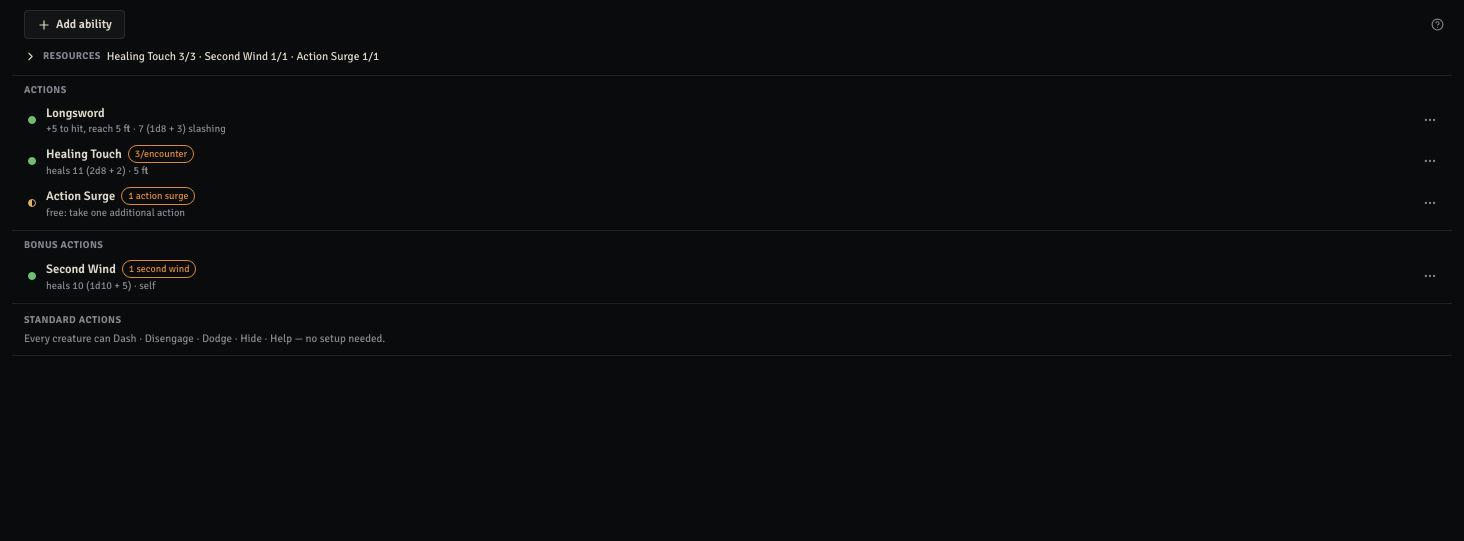
Test: the resource list › sizes uses so the ability's editor shows the same number, and the other way round
Click the button "Resources" at (72, 56), box 24,47 -> 1440,65
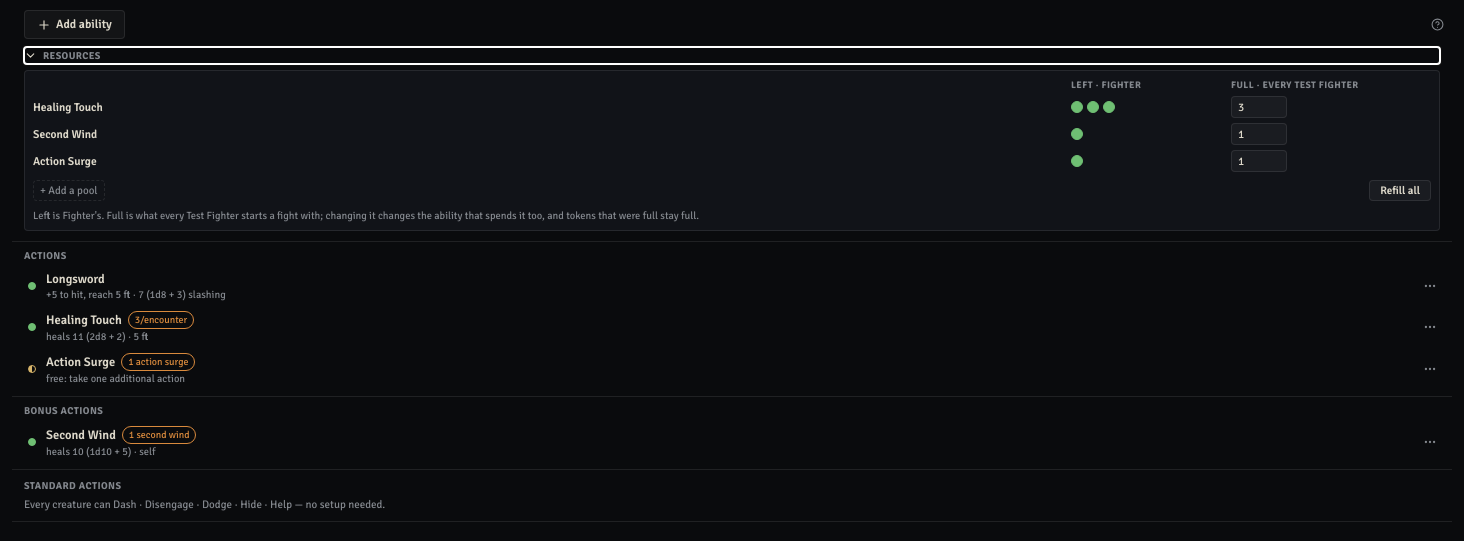
Replace the text in the field named "Healing Touch full" with "2" at (1259, 107), box 1231,96 -> 1287,118
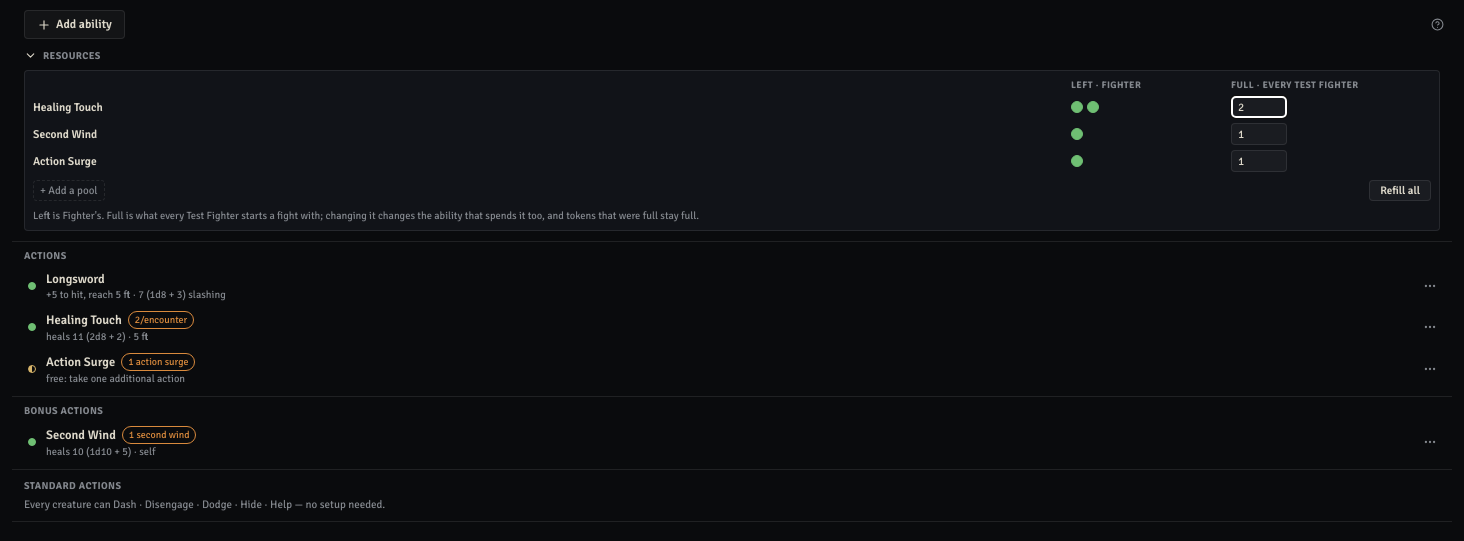
Click the button with aria-label "Edit Healing Touch" at (84, 320), box 42,306 -> 1410,348
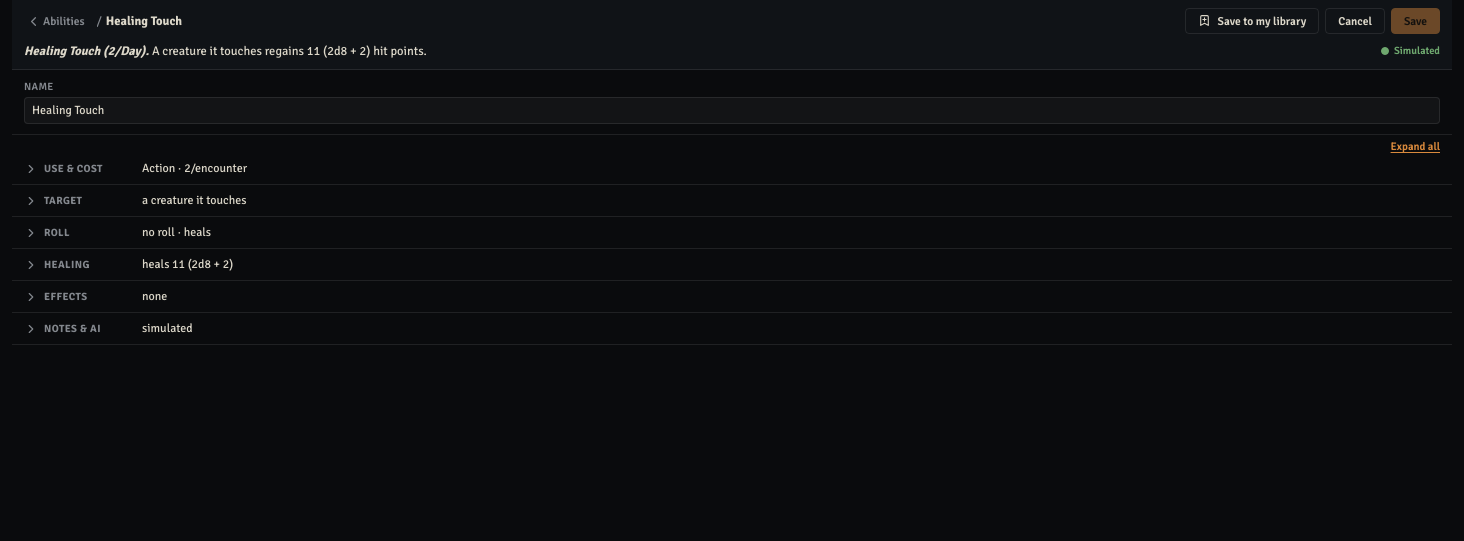
Click the button "Use & cost Action · 2/encounter" at (73, 169), box 12,153 -> 1452,184
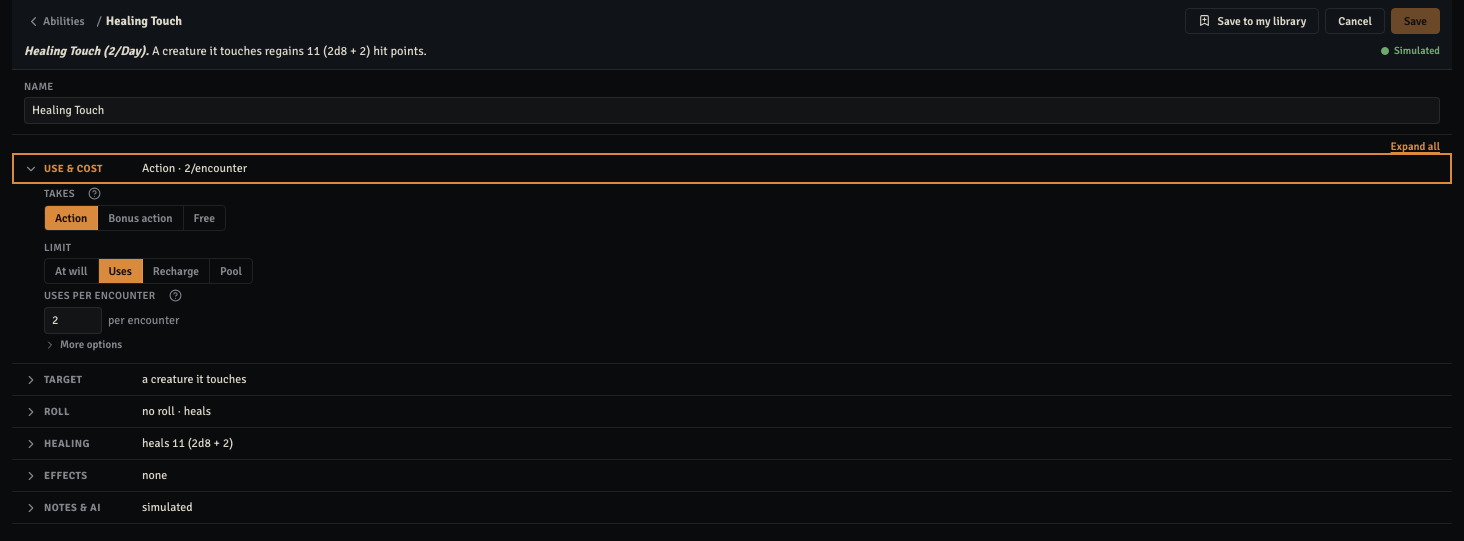
Result: the field named "Uses per encounter" holds "2"
Replace the text in the field named "Uses per encounter" with "4" at (73, 321), box 44,307 -> 102,334
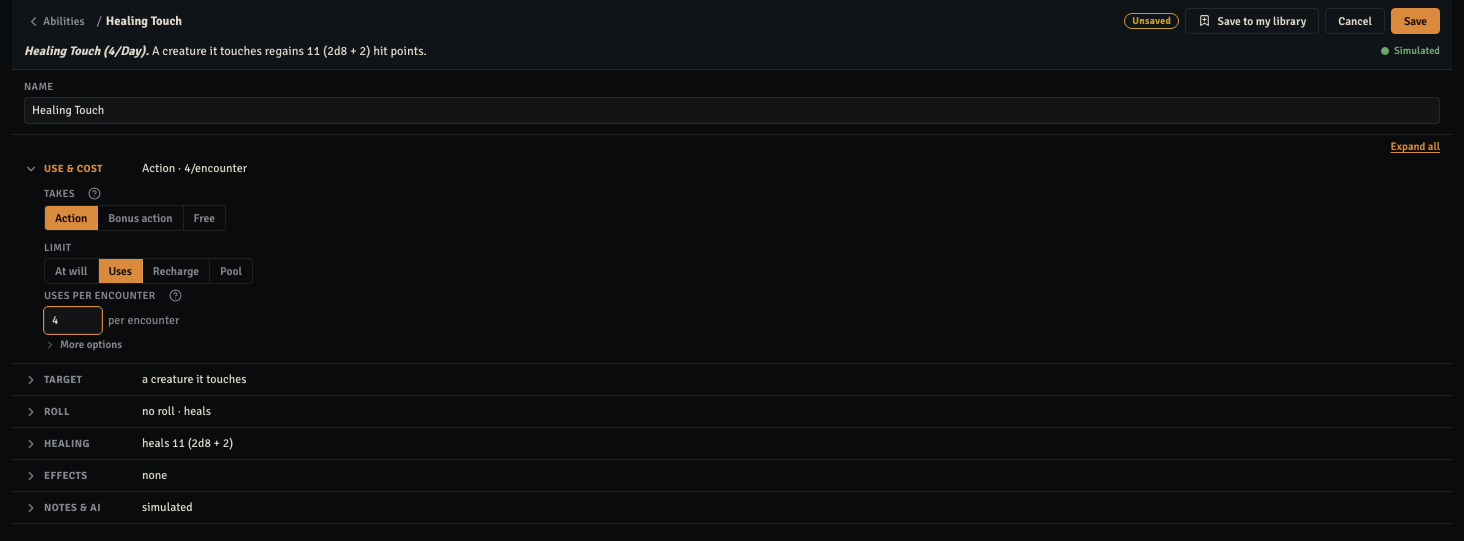
Click the button "Save" at (1415, 21), box 1391,8 -> 1440,34
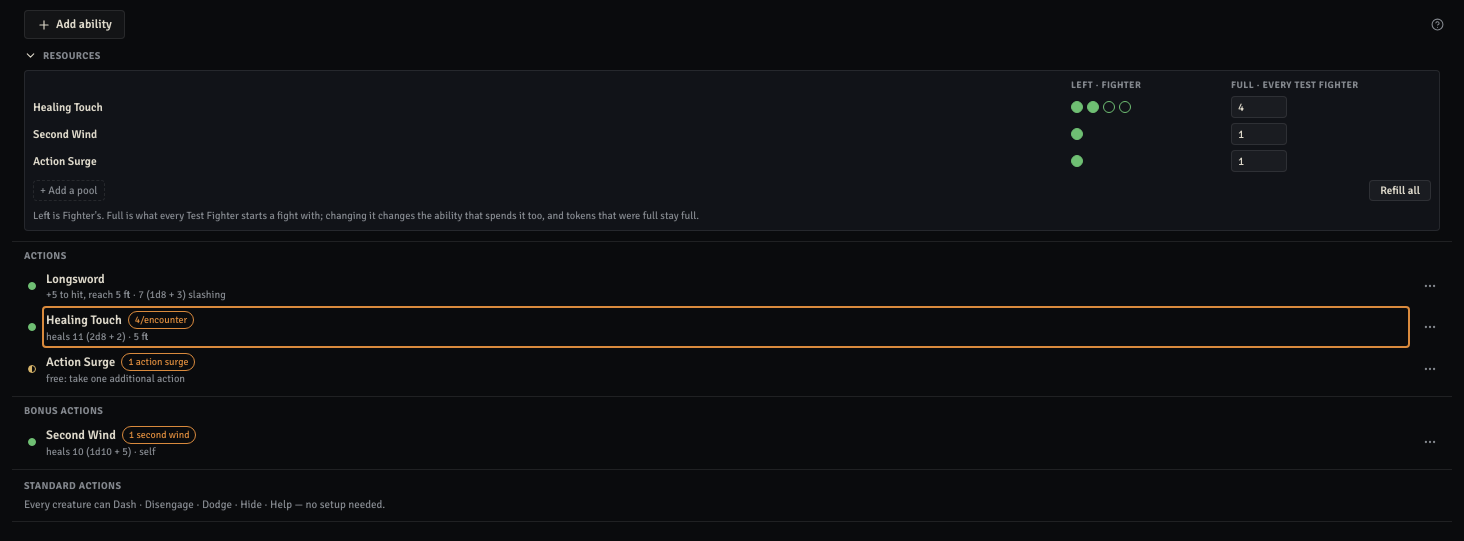
Result: the field named "Healing Touch full" holds "4" at 1231,96 -> 1287,118
